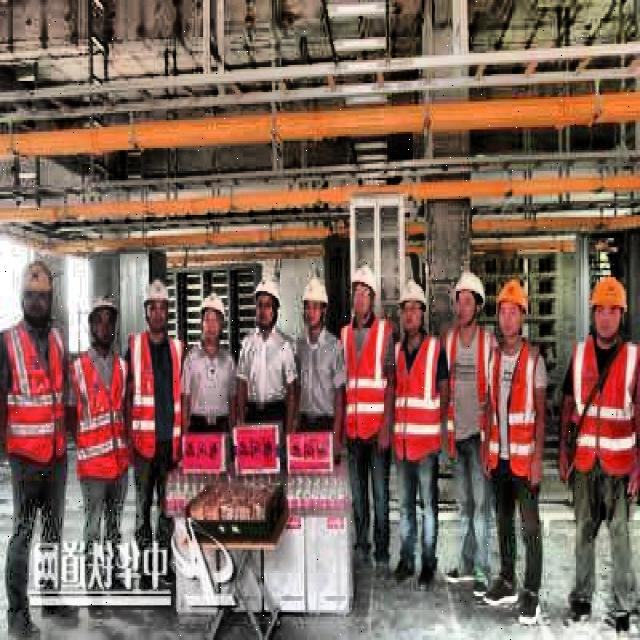helmet: (589, 270, 629, 346), (16, 256, 56, 326), (496, 275, 530, 342), (449, 268, 486, 326), (85, 289, 118, 349), (142, 273, 172, 335), (398, 280, 428, 340), (348, 266, 378, 326), (197, 291, 229, 347), (298, 280, 332, 328), (253, 275, 280, 333)
